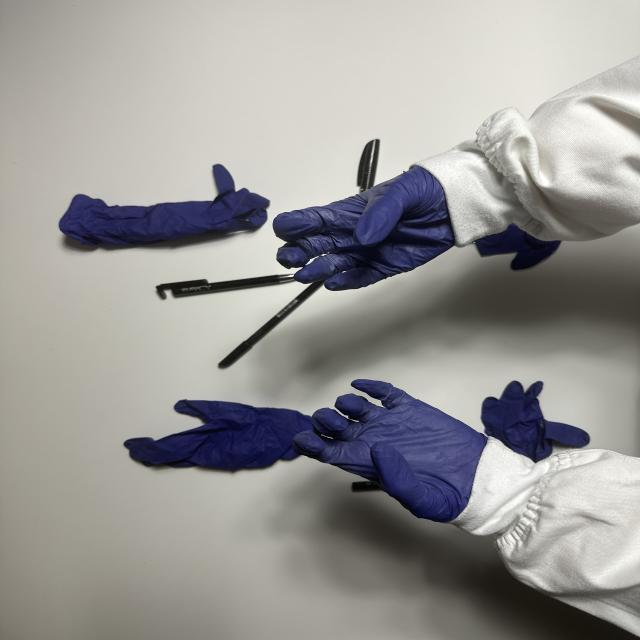gloves_contaminated: (292, 379, 488, 522), (273, 167, 454, 291)
